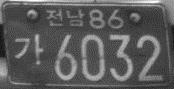0: (80, 33, 105, 83)
2: (135, 33, 163, 82)
3: (108, 32, 134, 82)
6: (54, 33, 77, 80), (106, 8, 124, 29)
8: (88, 8, 105, 30)
가: (14, 33, 44, 65)
전남_O: (45, 8, 84, 27)
